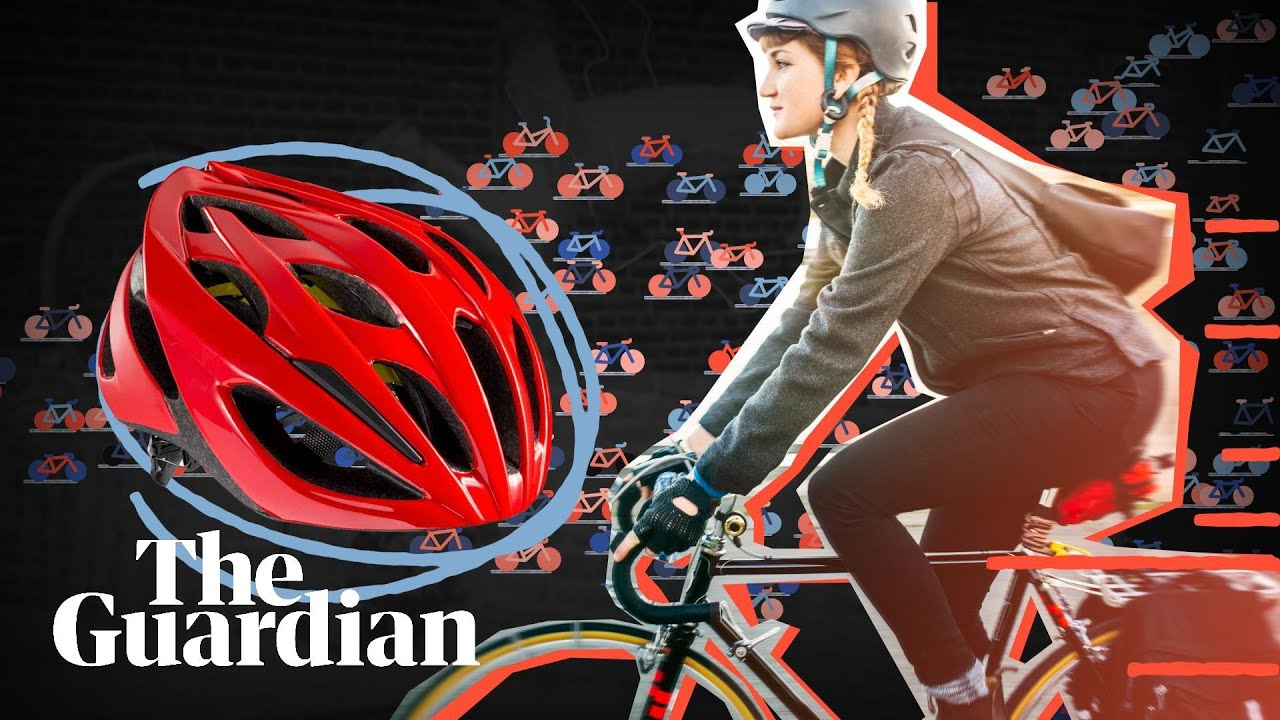helmet: (749, 1, 928, 139)
